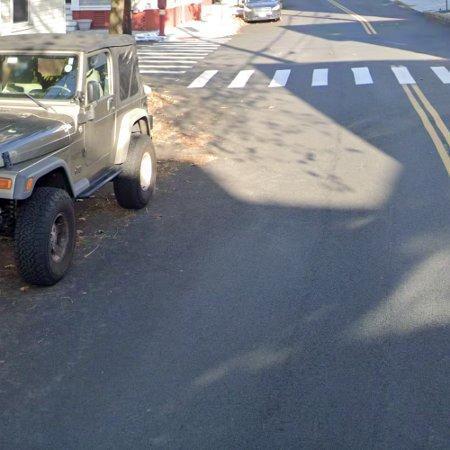crosswalks: (184, 63, 450, 89)
